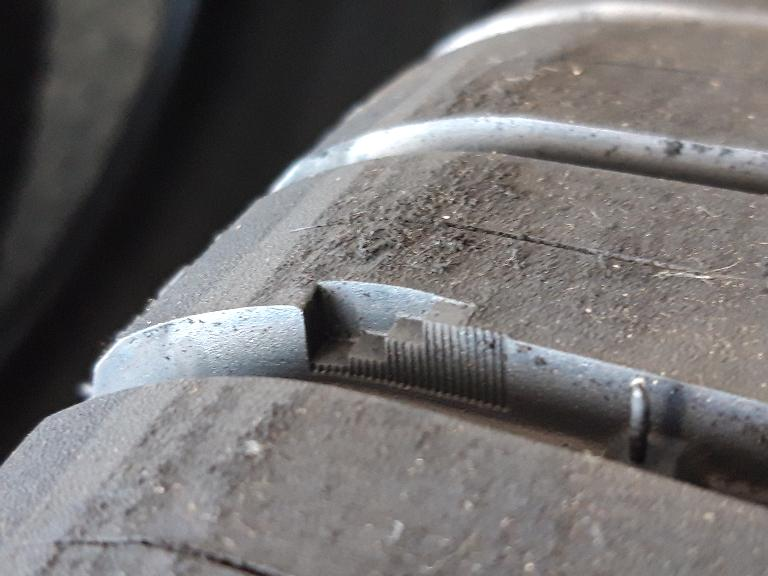temoin:75: (290, 272, 484, 405)
